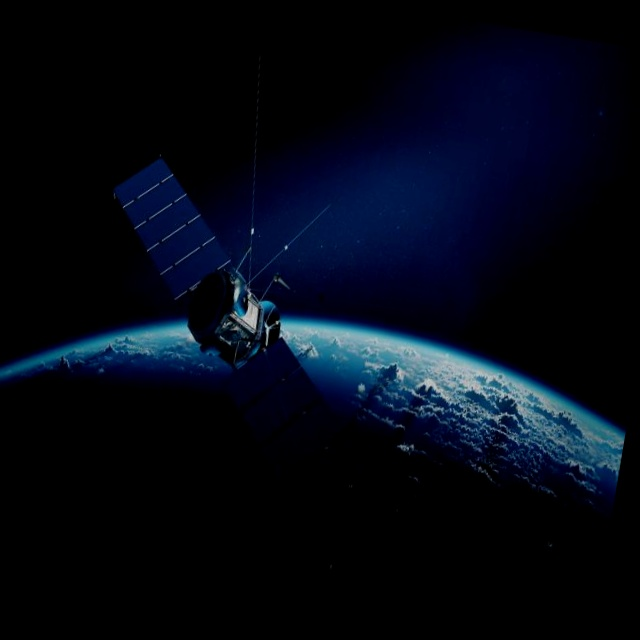satellite: (53, 117, 460, 586)
